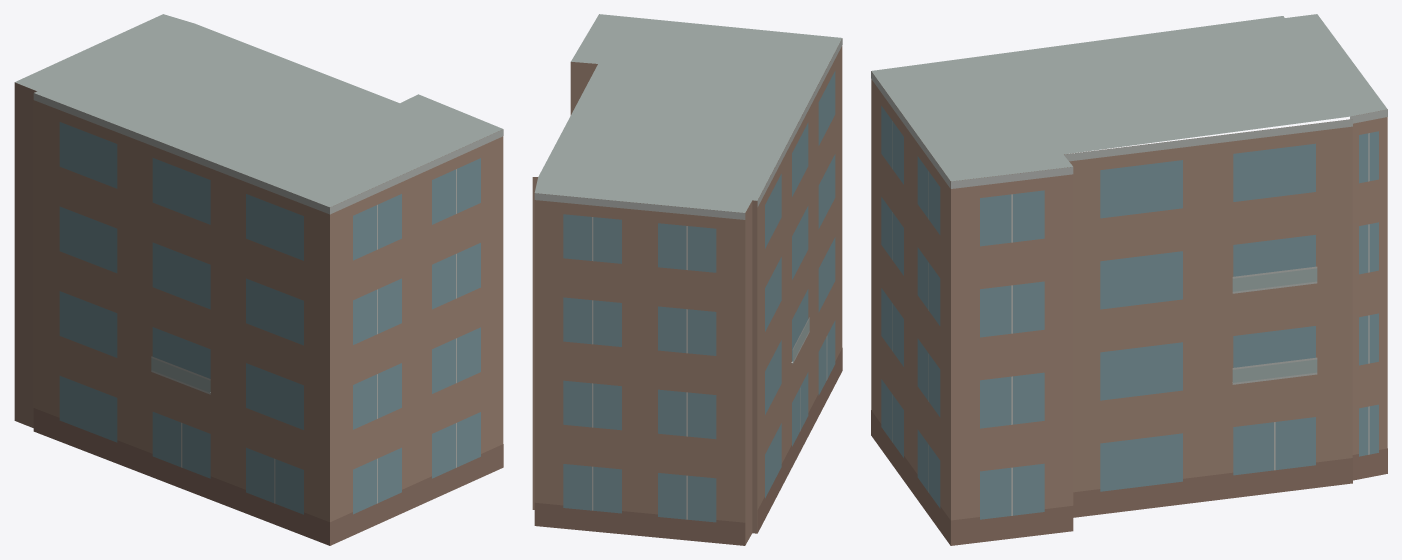
File: survey-upis-32812447.glb
The picture shows the model from 3 angles, left to right: view 1: azimuth 30°, elevation 25°; view 2: azimuth 150°, elevation 25°; view 3: azimuth 270°, elevation 25°; orthographic projection. The views are drawn at different scales.
Parts seen in each view (by area): view 1: survey-upis-32812447.tmp; view 2: survey-upis-32812447.tmp; view 3: survey-upis-32812447.tmp.
Boxes of the visible parts, box(x1,y1,x2,y2) form: survey-upis-32812447.tmp: box(14, 14, 503, 545); survey-upis-32812447.tmp: box(532, 14, 842, 545); survey-upis-32812447.tmp: box(871, 14, 1387, 545).
Bounding box in the file's own units: 11.49 × 11.65 × 14.98.
